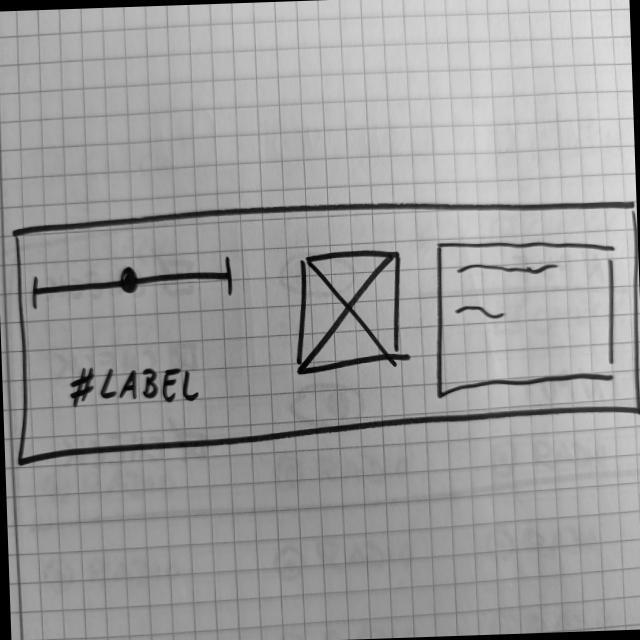container: (7, 192, 640, 467)
image: (291, 247, 408, 379)
label: (66, 361, 204, 413)
slider: (28, 253, 236, 313)
textarea: (429, 233, 622, 402)
